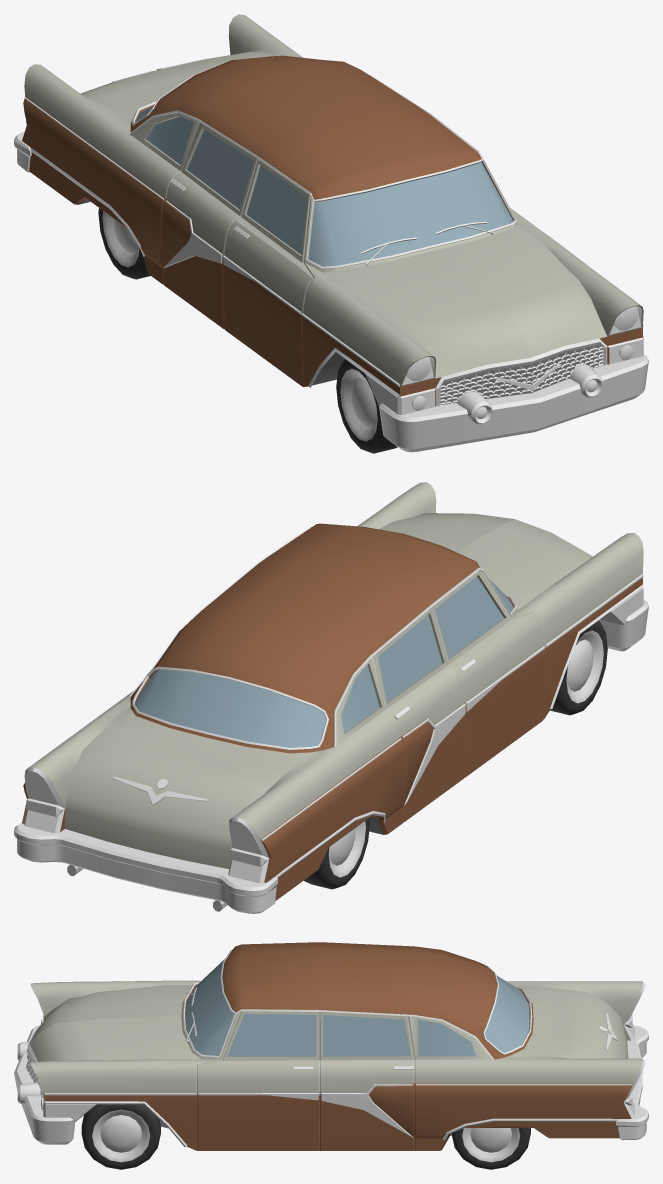
File: Chaika.fbx
The picture shows the model from 3 angles, top to bottom: view 1: azimuth 30°, elevation 25°; view 2: azimuth 150°, elevation 25°; view 3: azimuth 270°, elevation 25°; orthographic projection. The views are drawn at different scales.
Parts seen in each view (by area): view 1: Body, Wheel_FR, Wheel_RR; view 2: Body, Wheel_FR, Wheel_RR; view 3: Body, Wheel_FL, Wheel_RL.
Part boxes in pixels (x1,y1,x2,y2): Body: [14, 14, 648, 452]; Wheel_FR: [336, 359, 397, 453]; Wheel_RR: [98, 208, 150, 279]; Body: [14, 482, 648, 913]; Wheel_FR: [550, 621, 607, 715]; Wheel_RR: [304, 818, 369, 889]; Body: [14, 942, 648, 1150]; Wheel_FL: [81, 1104, 160, 1169]; Wheel_RL: [451, 1128, 530, 1169].
Size of the model in its own units: 201 by 162 by 561.
